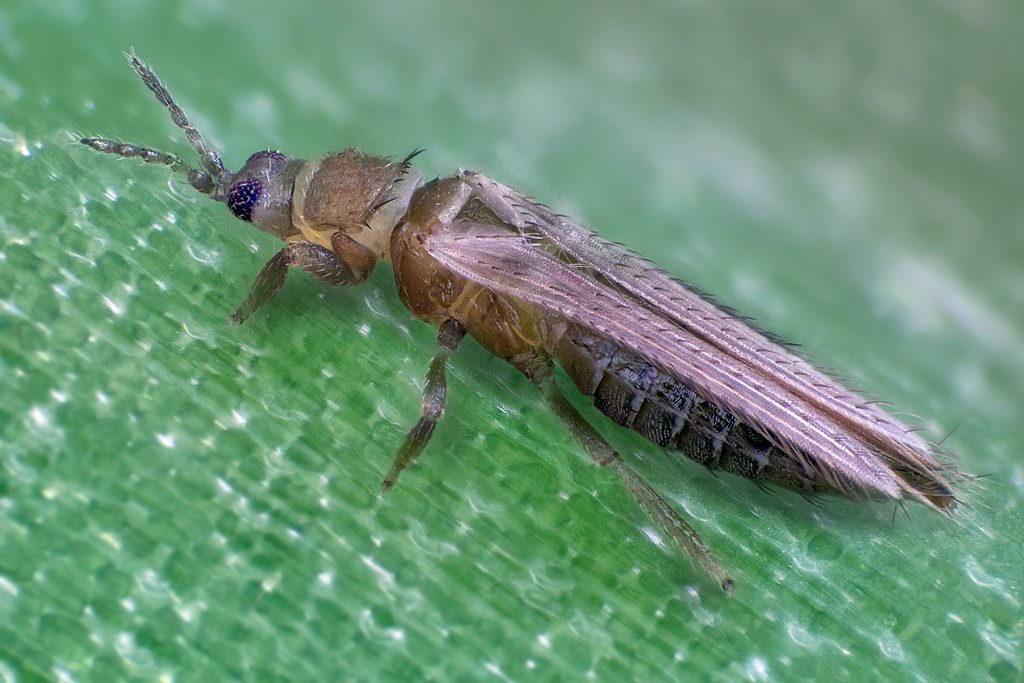Thrips: (95, 16, 992, 621)
